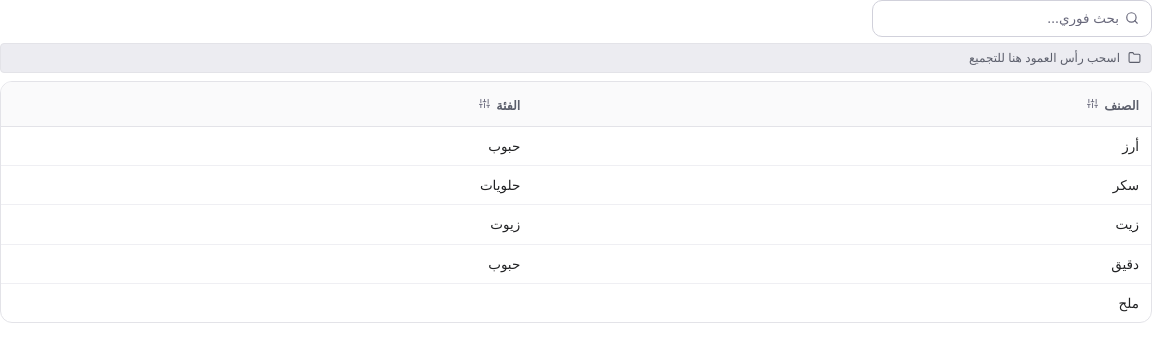
Test: imd_table_tools_test › البحث الفوري يفلتر الصفوف فورًا ويبلّغ العدّاد
Type "سك" into the field with placeholder "بحث فوري…" at [1002, 18], box [885, 9, 1119, 28]
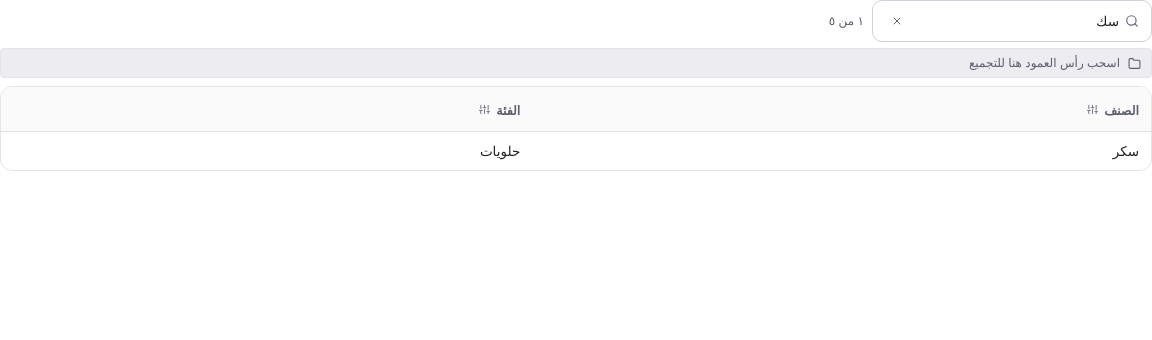
Expected: the text "سكر" is shown, [1113, 143, 1139, 159]
Expected: the text "أرز" is gone
Replace the text in the field with placeholder "بحث فوري…" with "زيوت" at [1014, 21], box [909, 12, 1119, 30]
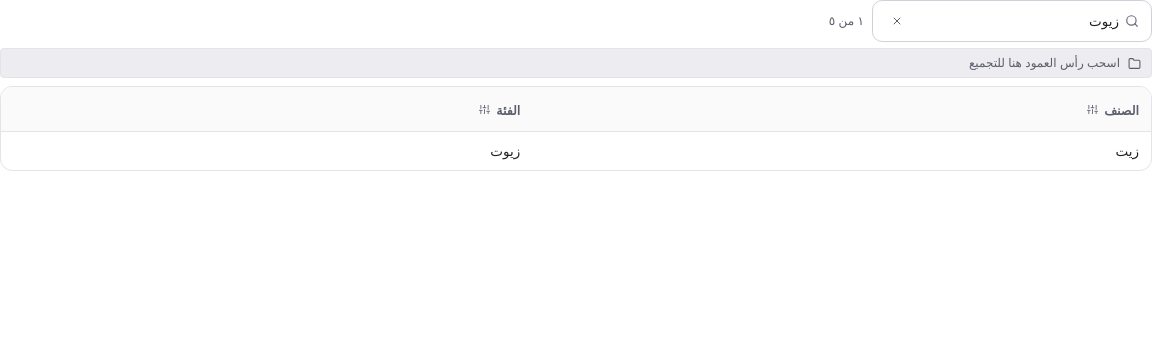
Expected: the text "زيت" is shown, [1116, 143, 1139, 159]
Expected: the text "سكر" is gone
